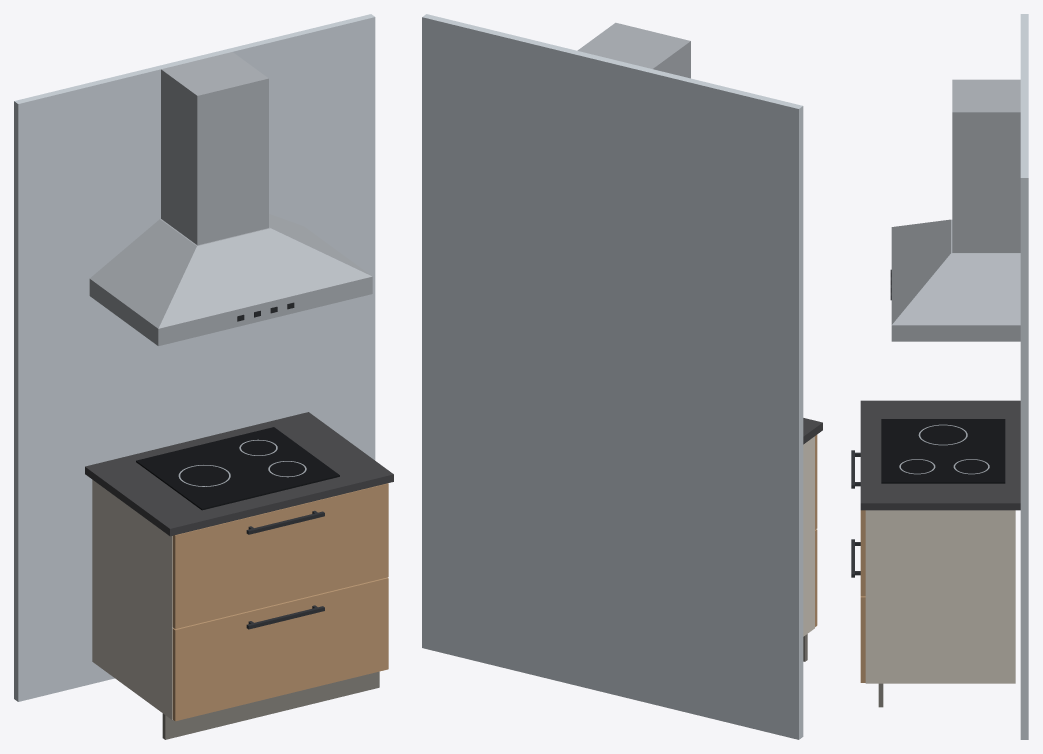
Rendered from hood.glb.
3 renders of one model, left to right at view 1: azimuth 30°, elevation 25°; view 2: azimuth 150°, elevation 25°; view 3: azimuth 270°, elevation 25°, orthographic. The views are drawn at different scales.
Visible parts, largest first — view 1: 벽, 위 서랍, 아래 서랍, 후드 굴뚝, 후드 갓, 하부장 옆판 왼쪽, 상판, 쿡탑, 후드 띠, 걸레받이; view 2: 벽, 후드 굴뚝, 하부장 옆판 왼쪽; view 3: 하부장 옆판 오른쪽, 후드 굴뚝, 후드 갓, 상판, 쿡탑, 벽, 후드 띠, 아래 서랍, 위 서랍.
Boxes of the visible parts, x1,y1,x2,y2 form: 벽: [14, 14, 375, 701]; 위 서랍: [172, 483, 388, 628]; 아래 서랍: [172, 577, 388, 721]; 후드 굴뚝: [161, 52, 268, 245]; 후드 갓: [90, 214, 372, 328]; 하부장 옆판 왼쪽: [92, 480, 172, 719]; 상판: [85, 412, 393, 536]; 쿡탑: [136, 427, 339, 510]; 후드 띠: [89, 276, 372, 346]; 걸레받이: [162, 671, 379, 739]; 벽: [422, 14, 803, 739]; 후드 굴뚝: [577, 22, 690, 78]; 하부장 옆판 왼쪽: [803, 436, 814, 636]; 하부장 옆판 오른쪽: [865, 510, 1015, 683]; 후드 굴뚝: [952, 79, 1020, 252]; 후드 갓: [891, 219, 1020, 325]; 상판: [860, 400, 1020, 510]; 쿡탑: [881, 419, 1005, 483]; 벽: [1020, 14, 1028, 739]; 후드 띠: [891, 325, 1020, 341]; 아래 서랍: [860, 596, 865, 682]; 위 서랍: [860, 510, 865, 596].
Size of the model in its own units: 1.5 by 2.4 by 0.685.
